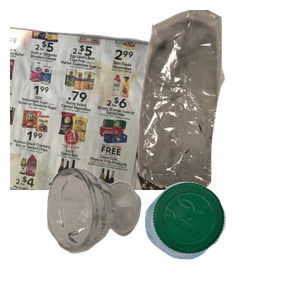glass: (44, 165, 178, 300)
paper: (10, 22, 225, 202)
plastic: (142, 179, 300, 300)
trash: (114, 10, 300, 190)
